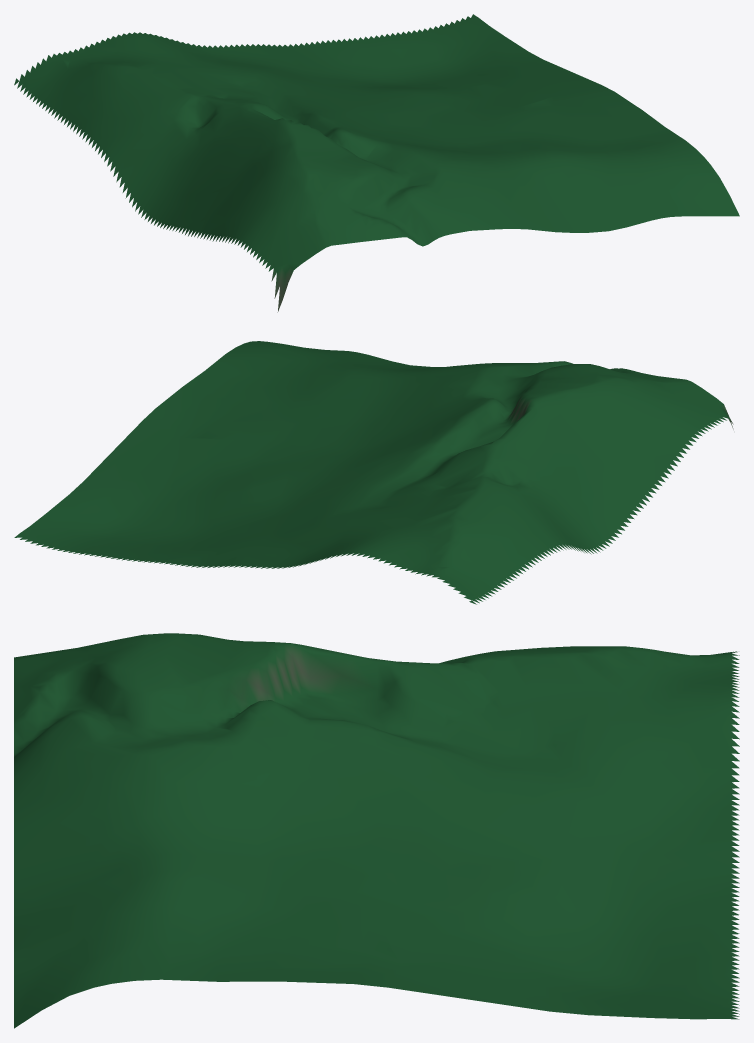
File: payo_land_xm2_ym1_lod2.glb
The picture shows the model from 3 angles, top to bottom: view 1: azimuth 30°, elevation 25°; view 2: azimuth 150°, elevation 25°; view 3: azimuth 270°, elevation 25°; orthographic projection. The views are drawn at different scales.
Parts seen in each view (by area): view 1: payo_land_xm2_ym1; view 2: payo_land_xm2_ym1; view 3: payo_land_xm2_ym1.
Part boxes in pixels (bbox=[...]): payo_land_xm2_ym1: bbox=[14, 14, 739, 312]; payo_land_xm2_ym1: bbox=[14, 341, 733, 604]; payo_land_xm2_ym1: bbox=[14, 633, 739, 1028].
Bounding box in the file's own units: 258 × 58.83 × 258.
